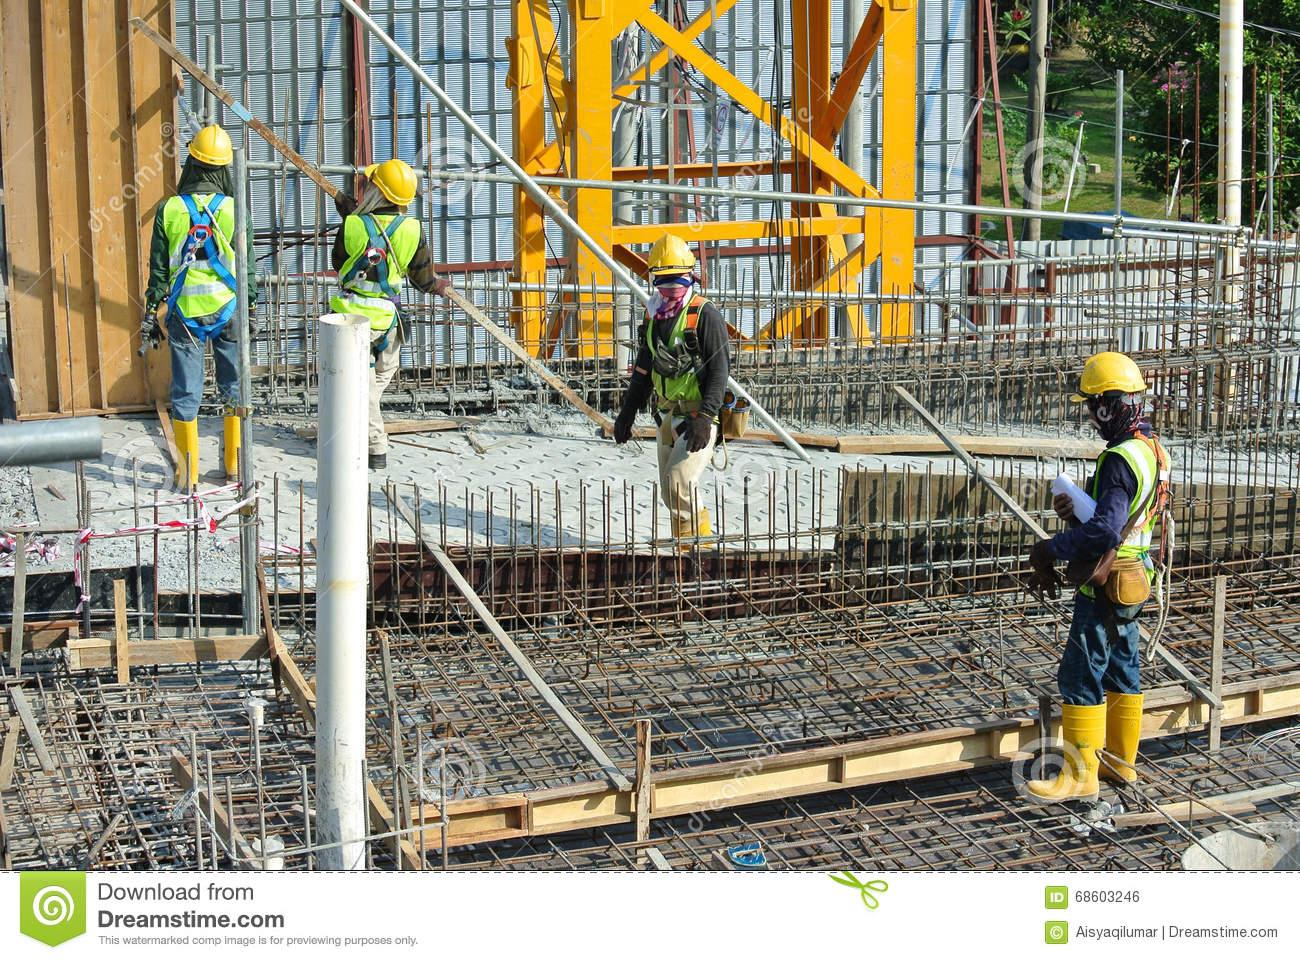helmet: (1075, 352, 1148, 398), (364, 158, 420, 207), (188, 122, 234, 165), (650, 234, 695, 271)
